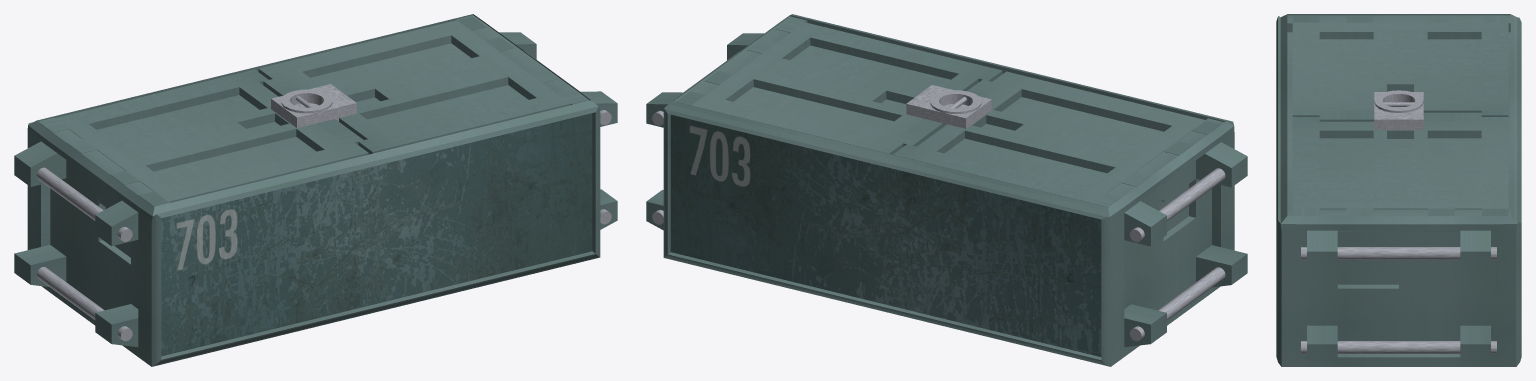
Rendered from CrateSteel.fbx.
3 renders of one model, left to right at view 1: azimuth 30°, elevation 25°; view 2: azimuth 150°, elevation 25°; view 3: azimuth 270°, elevation 25°, orthographic. The views are drawn at different scales.
Visible parts, largest first — view 1: Crate, Door1, Door2, pCube4, pCube6, pCylinder1, pCylinder2, pCube7, pPipe1; view 2: Crate, Door1, Door2, pCube4, pCube6, pCylinder1, pCylinder2, pCube7, pPipe1; view 3: Crate, Door2, Door1, pCylinder3, pCylinder4, pCube6, pCube7, pCube4, pPipe1.
Part boxes in pixels (x1,y1,x2,y2): Crate: (14,14,617,366); Door1: (39,69,368,205); Door2: (258,16,585,154); pCube4: (271,84,356,127); pCube6: (456,15,589,104); pCylinder1: (36,167,132,241); pCylinder2: (36,267,132,341); pCube7: (38,117,169,206); pPipe1: (281,89,332,113); Crate: (646,14,1247,366); Door1: (893,71,1221,207); Door2: (676,18,1002,154); pCube4: (906,85,991,128); pCube6: (674,16,807,101); pCylinder1: (1129,168,1225,242); pCylinder2: (1129,267,1225,341); pCube7: (1107,118,1223,196); pPipe1: (930,90,981,113); Crate: (1276,14,1521,366); Door2: (1292,112,1508,215); Door1: (1292,15,1508,121); pCylinder3: (1301,247,1496,259); pCylinder4: (1301,341,1496,353); pCube6: (1287,209,1510,232); pCube7: (1287,15,1510,32); pCube4: (1374,92,1423,129); pPipe1: (1374,90,1423,112).
Bounding box in the file's own units: 1.69 × 0.5375 × 0.75.
Materials: 5 (5 with a texture image).
